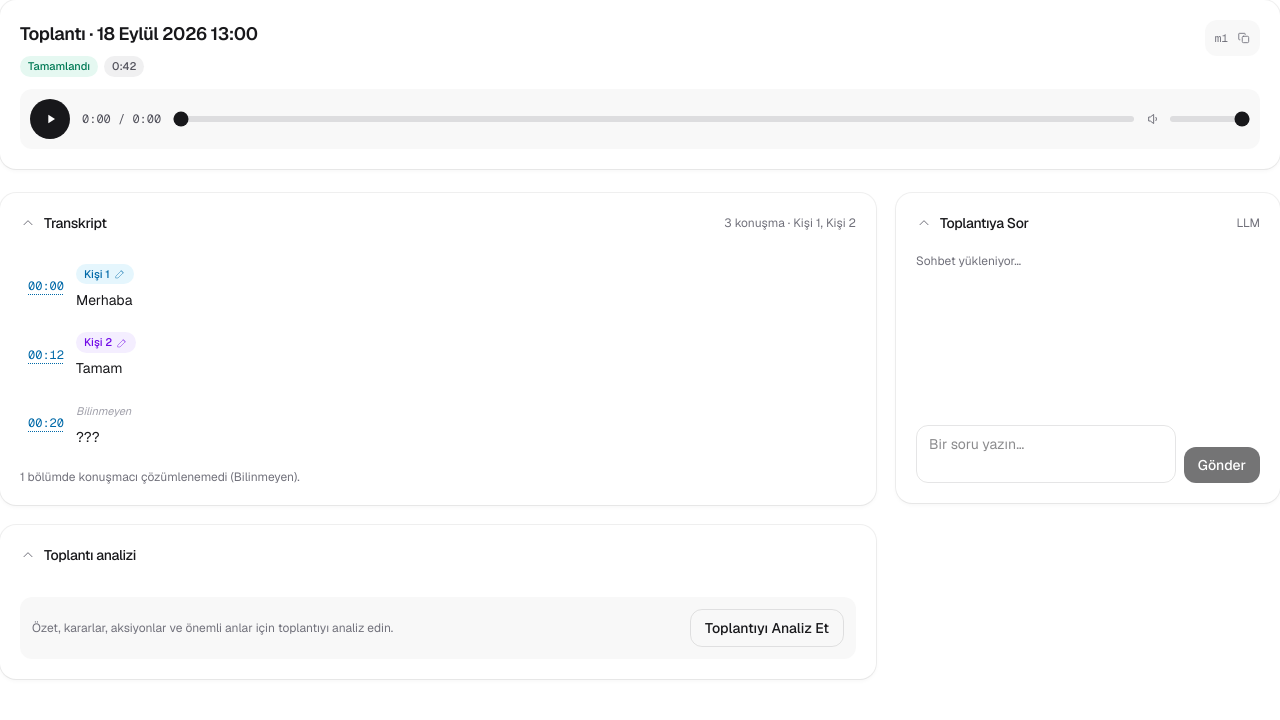
Test case: MeetingDetail › asks grounded questions in the chat panel and shows the answer
Expected: the text "Merhaba" is shown, [76,290,132,308]
In the text box named "Toplantıyla ilgili soru": point(1046, 454) [916,424,1176,482], type "Ne karar alındı?"
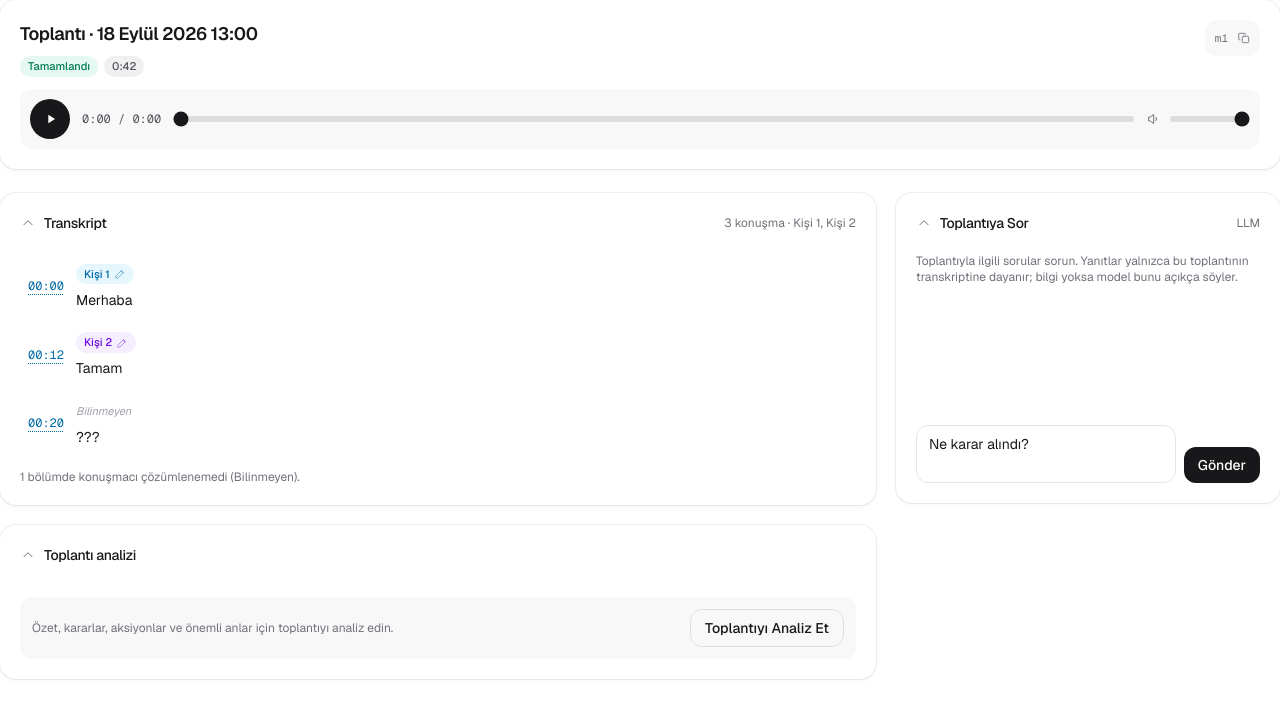
Click the button "Gönder": point(1222, 464) [1184,446,1260,482]
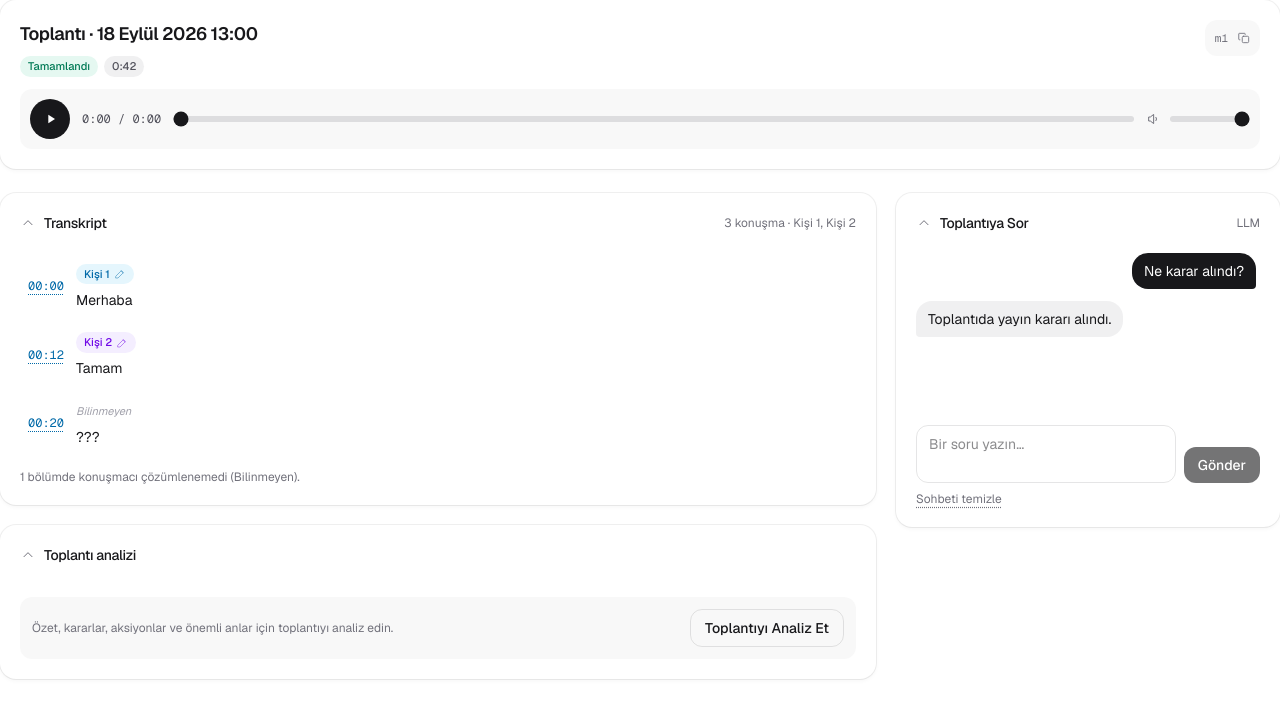
Result: the text "Toplantıda yayın kararı alındı." is shown at [916,300,1123,336]
